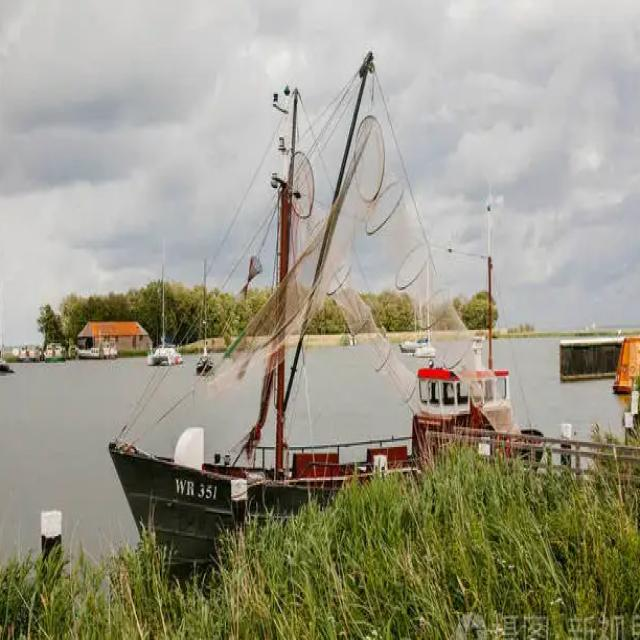fishing boat: (118, 55, 548, 548), (146, 247, 182, 367), (397, 258, 438, 362), (192, 258, 214, 374), (0, 271, 12, 376)
